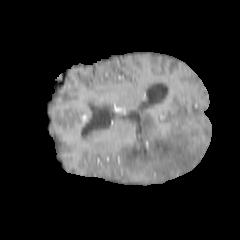glioma: (119, 109, 200, 178)
